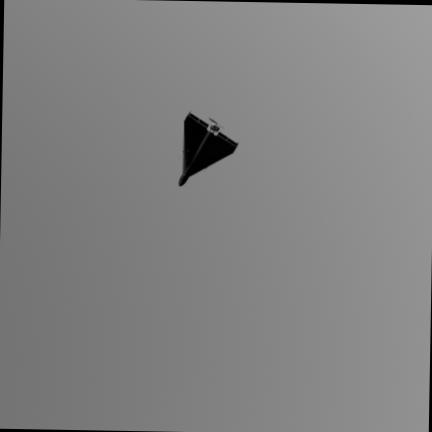Shahed: (179, 111, 237, 184)
